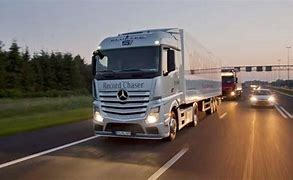bigtruck: (89, 28, 222, 141)
